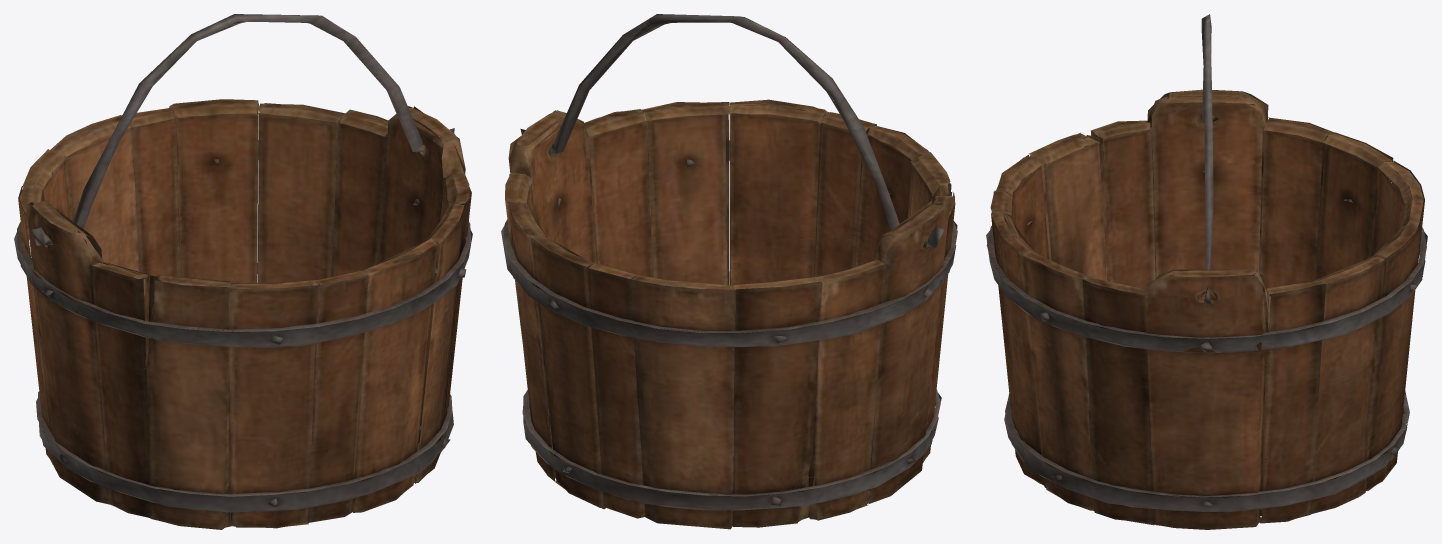
Rendered from well_bucket.glb.
3 renders of one model, left to right at view 1: azimuth 30°, elevation 25°; view 2: azimuth 150°, elevation 25°; view 3: azimuth 270°, elevation 25°, orthographic. The views are drawn at different scales.
Parts seen in each view (by area): view 1: well_bucket; view 2: well_bucket; view 3: well_bucket.
Part boxes in pixels (bbox=[...]): well_bucket: bbox=[14, 14, 472, 529]; well_bucket: bbox=[501, 14, 957, 529]; well_bucket: bbox=[986, 14, 1427, 529].
Size of the model in its own units: 0.45 by 0.44 by 0.42.
1 material, 1 textured.
